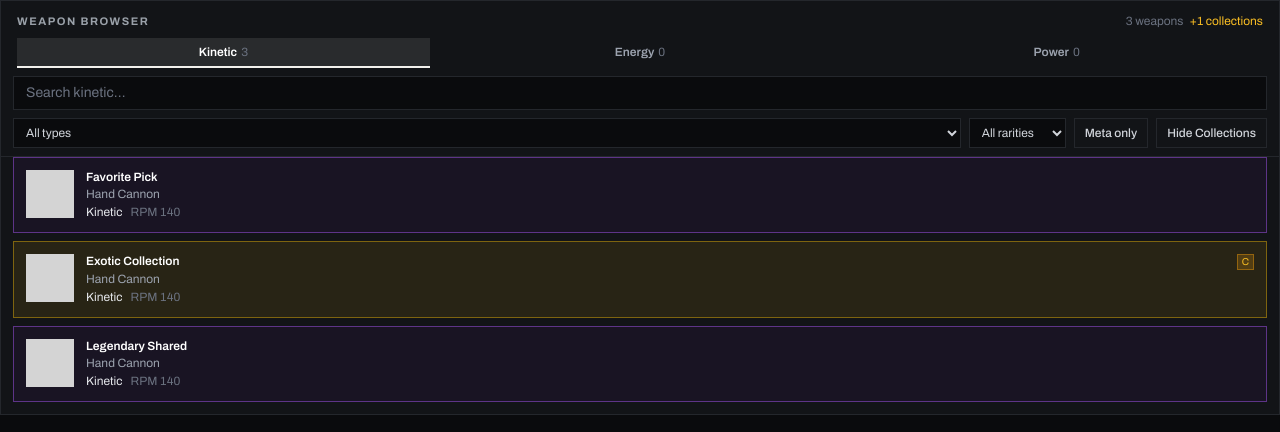
WeaponPool › shows a useful empty state and clears filters
Type "not a real gun" into the field with placeholder "Search kinetic…" at (640, 92), box left=13, top=76, right=1267, bottom=110
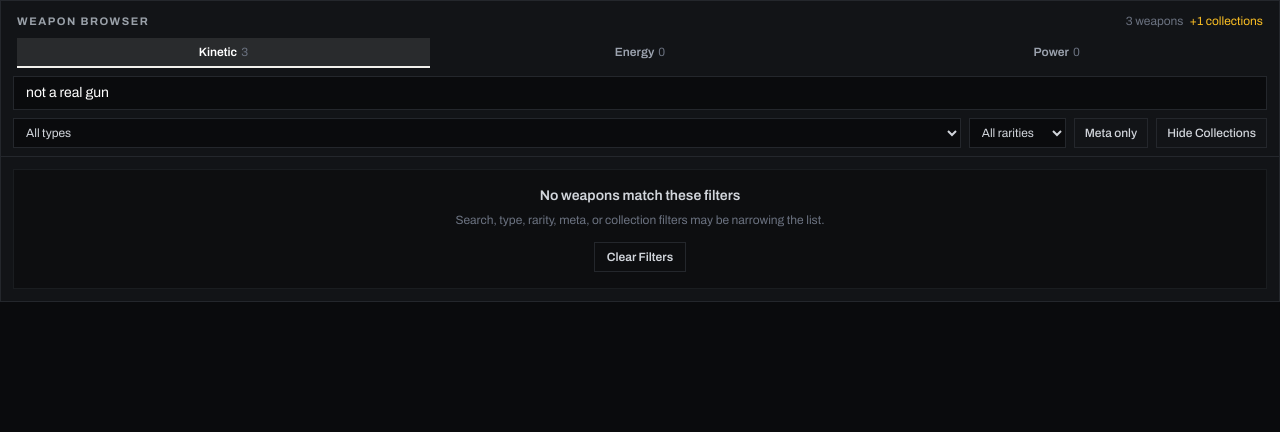
Expected: the text "No weapons match these filters" is shown, left=540, top=188, right=740, bottom=202
Click the button "Clear Filters" at (640, 256), box left=594, top=242, right=686, bottom=272
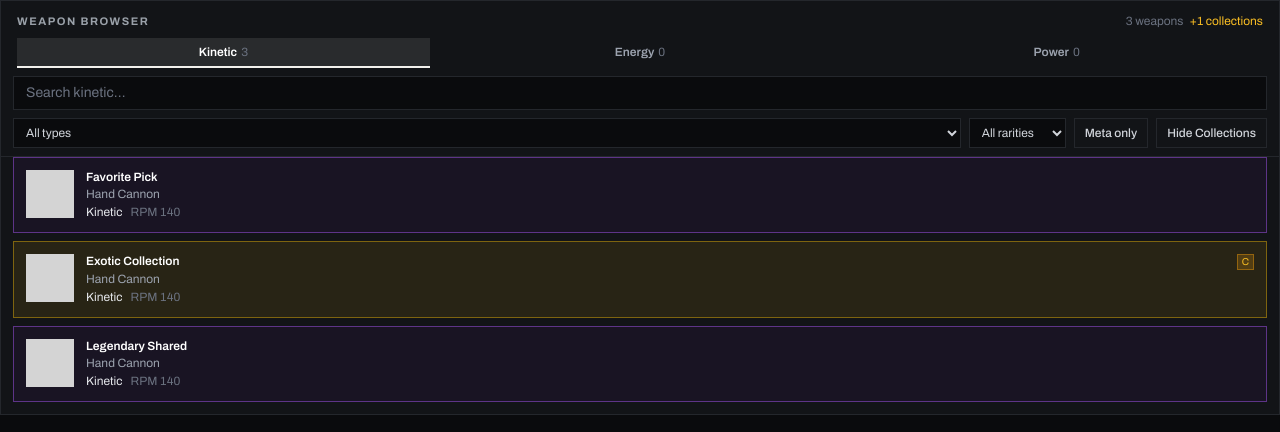
Expected: the text "Favorite Pick" is shown, left=86, top=170, right=158, bottom=184
Expected: the text "No weapons match these filters" is gone
